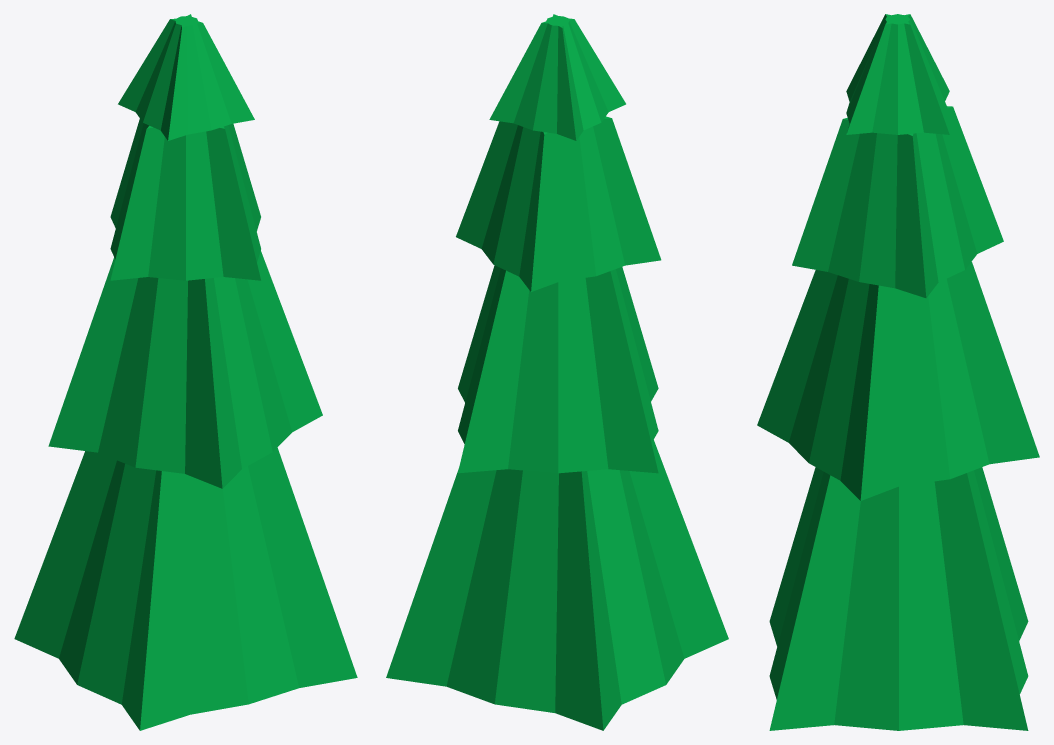
Rendered from Tree spruce.fbx.
The picture shows the model from 3 angles, left to right: view 1: azimuth 30°, elevation 25°; view 2: azimuth 150°, elevation 25°; view 3: azimuth 270°, elevation 25°; orthographic projection. The views are drawn at different scales.
Parts seen in each view (by area): view 1: Tree; view 2: Tree; view 3: Tree.
Part boxes in pixels (bbox=[...]): Tree: bbox=[14, 14, 357, 730]; Tree: bbox=[386, 14, 728, 730]; Tree: bbox=[757, 14, 1039, 730].
Bounding box in the file's own units: 219 × 560 × 219.
